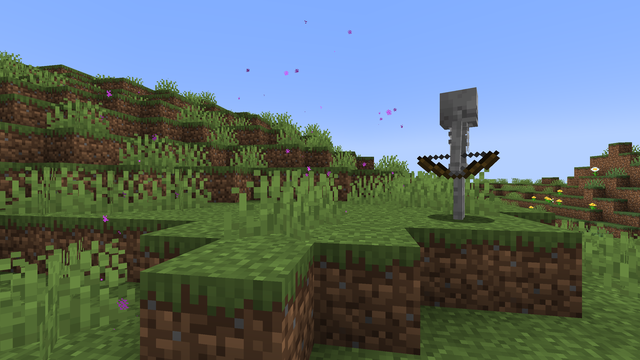squelettes: (434, 87, 487, 220)
